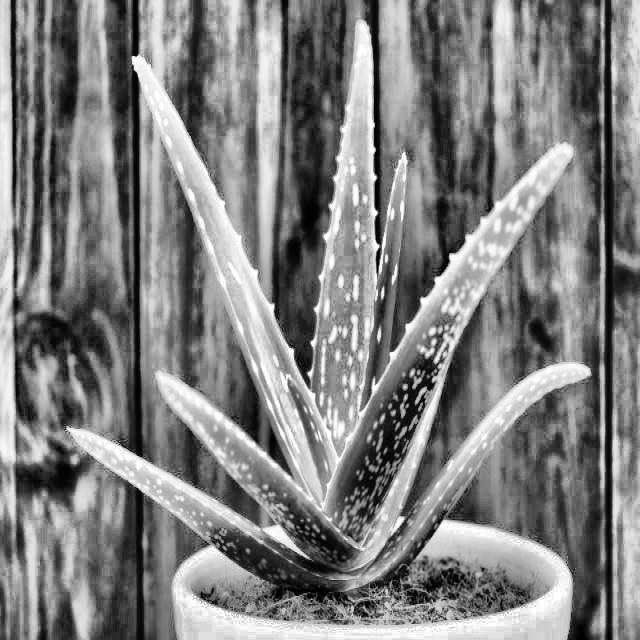plants: (60, 12, 588, 638)
